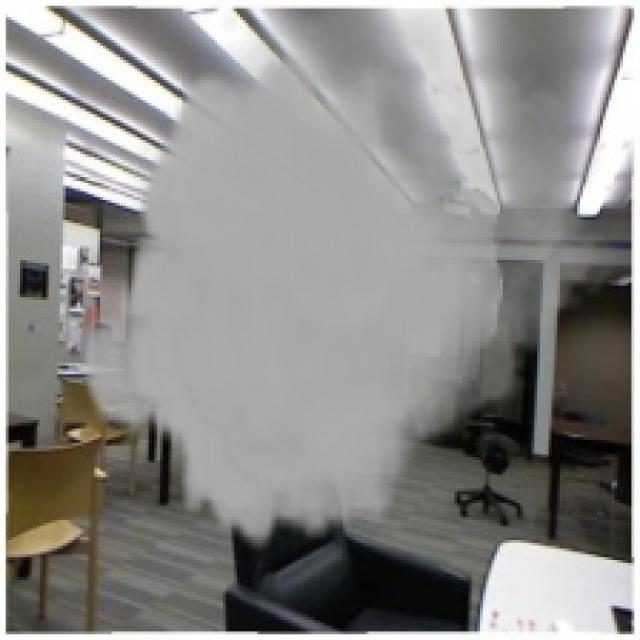smoke: (77, 9, 620, 552)
